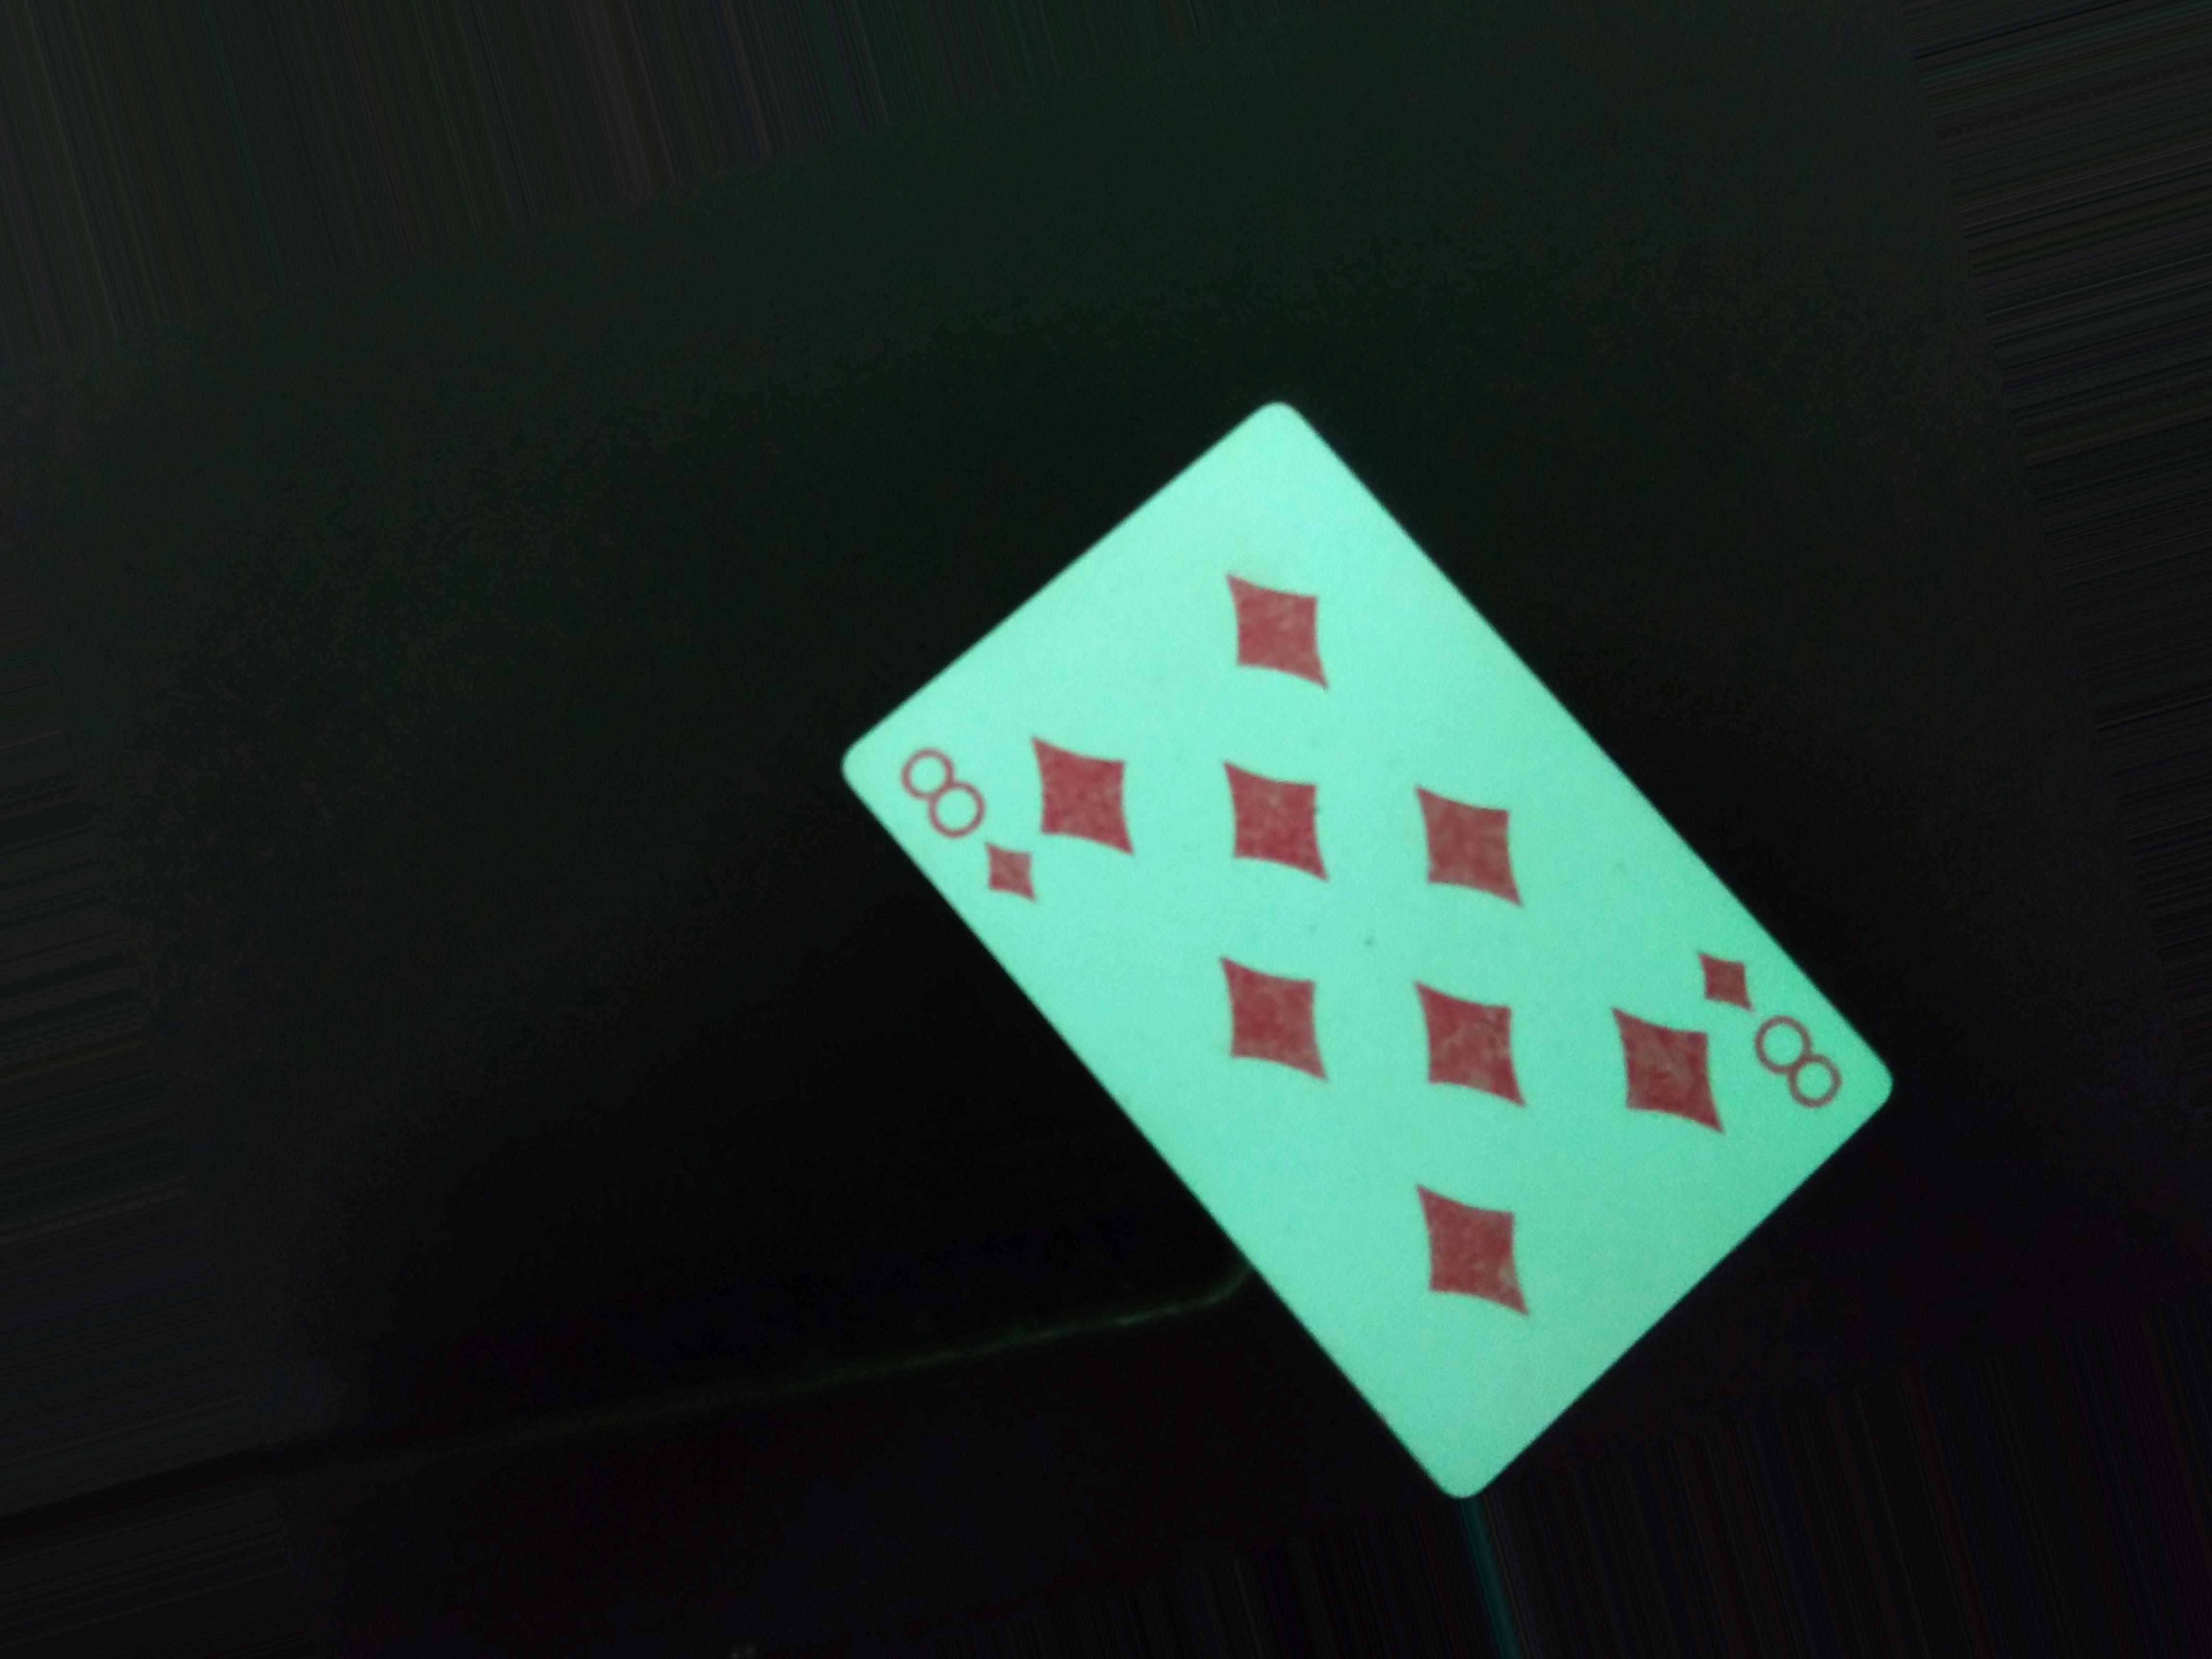8D: (888, 735, 1047, 917)
